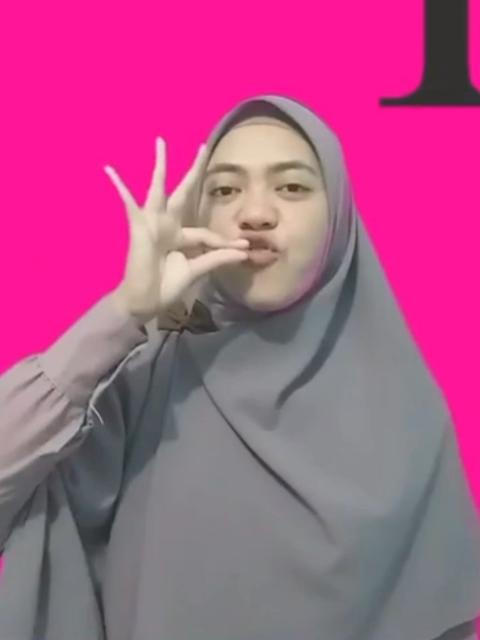F: (97, 132, 252, 310)
